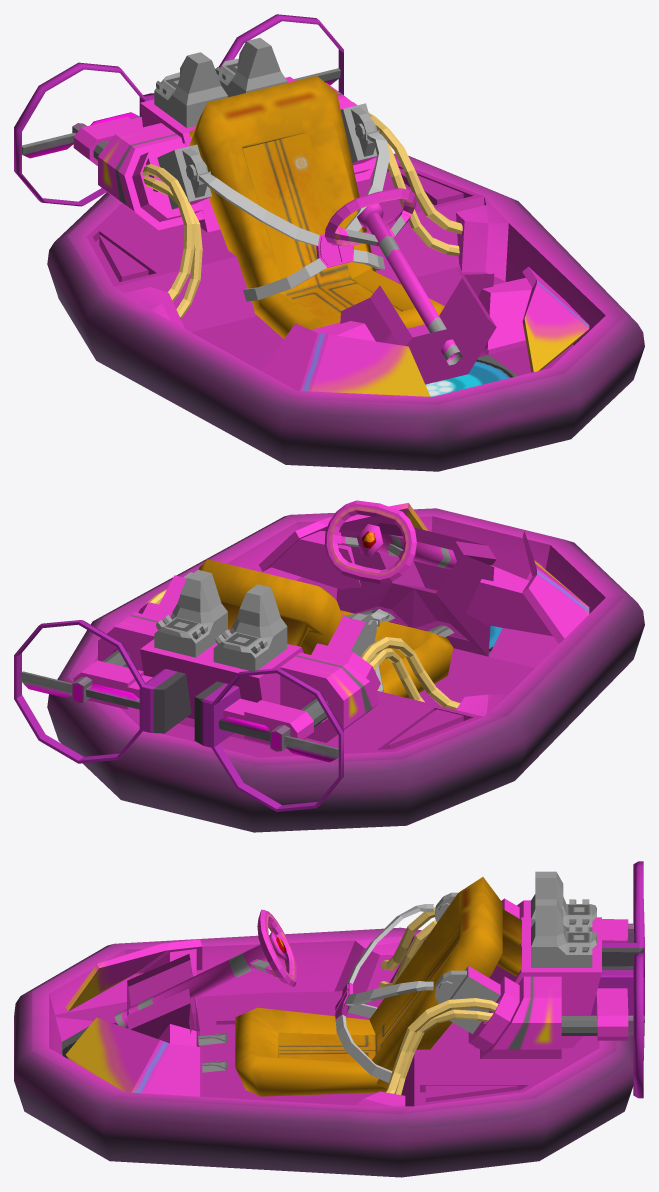
File: PinkiePieKart.fbx
The picture shows the model from 3 angles, top to bottom: view 1: azimuth 30°, elevation 25°; view 2: azimuth 150°, elevation 25°; view 3: azimuth 270°, elevation 25°; orthographic projection. The views are drawn at different scales.
Visible parts, largest first — view 1: PinkiePieKart; view 2: PinkiePieKart; view 3: PinkiePieKart.
Boxes of the visible parts, left/top/right/bottom form: PinkiePieKart: left=14, top=14, right=644, bottom=471; PinkiePieKart: left=14, top=500, right=644, bottom=832; PinkiePieKart: left=14, top=861, right=644, bottom=1177.
Bounding box in the file's own units: 83.14 × 36.8 × 109.
Materials: 1 (1 with a texture image).
